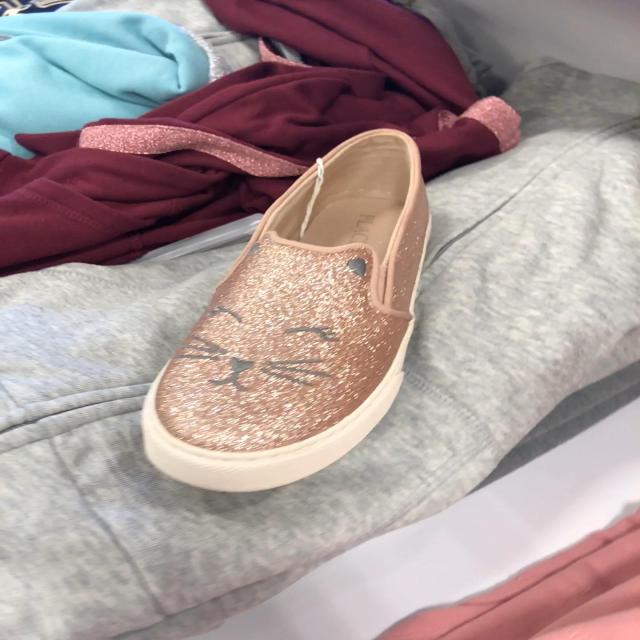shoe: (140, 129, 432, 496)
